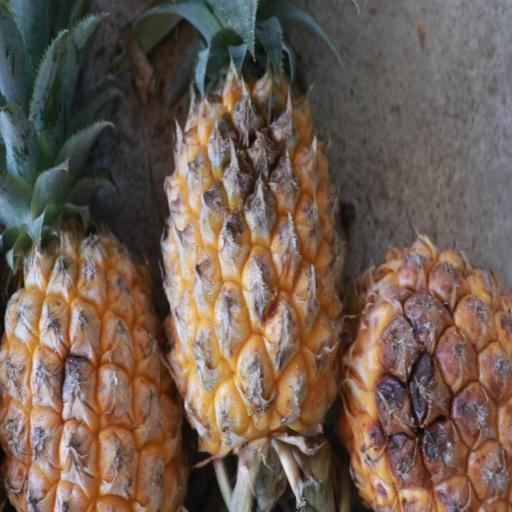Pineapple - v8 v1: (0, 0, 191, 512), (155, 0, 349, 460), (337, 235, 512, 512)
